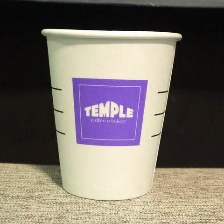paper_cup: (35, 23, 186, 203)
